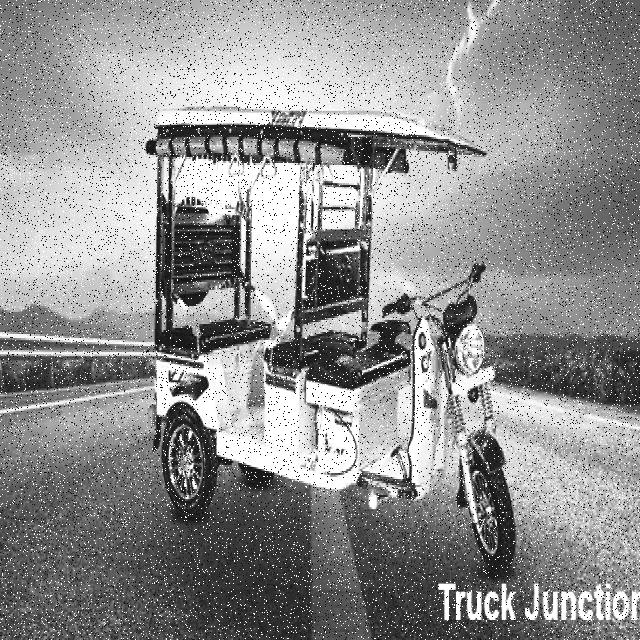Toto: (144, 101, 513, 561)
